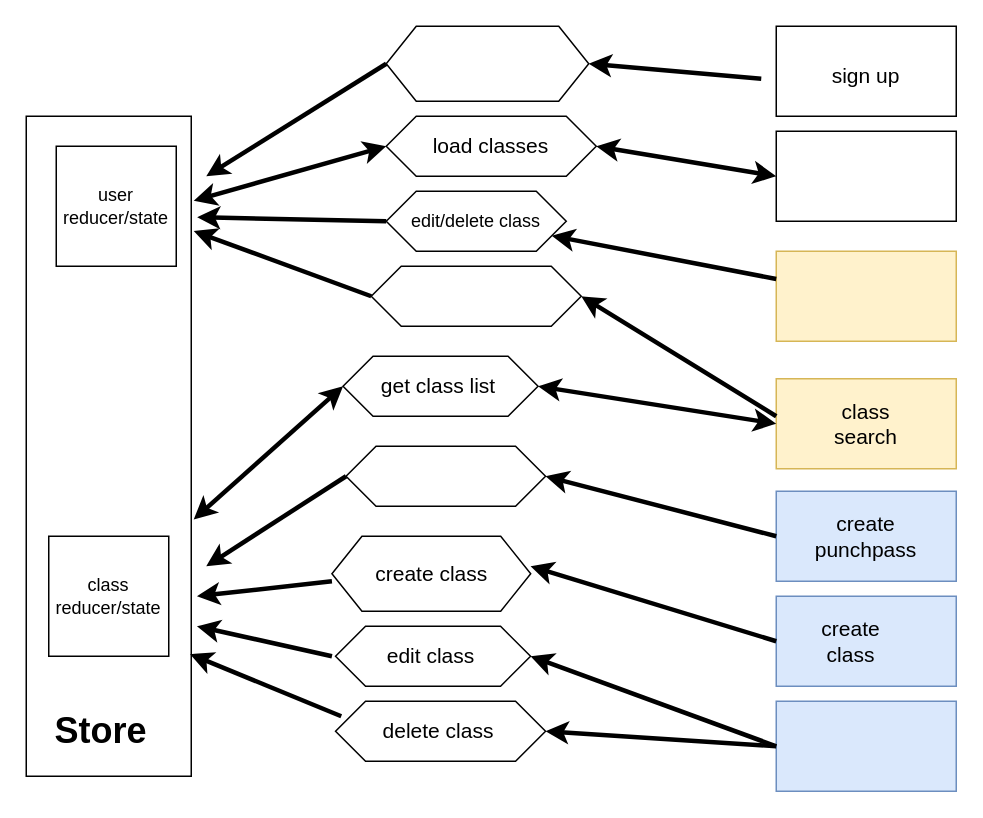
This 983x818 diagram has some shape labels left out. Each missing label, with the box of its shape:
add punchpass: (345, 445, 546, 506)
create user: (385, 25, 589, 101)
manage class: (775, 700, 956, 791)
manage classes: (775, 250, 956, 341)
sign in: (775, 130, 956, 221)
sign up for class: (370, 265, 581, 326)
